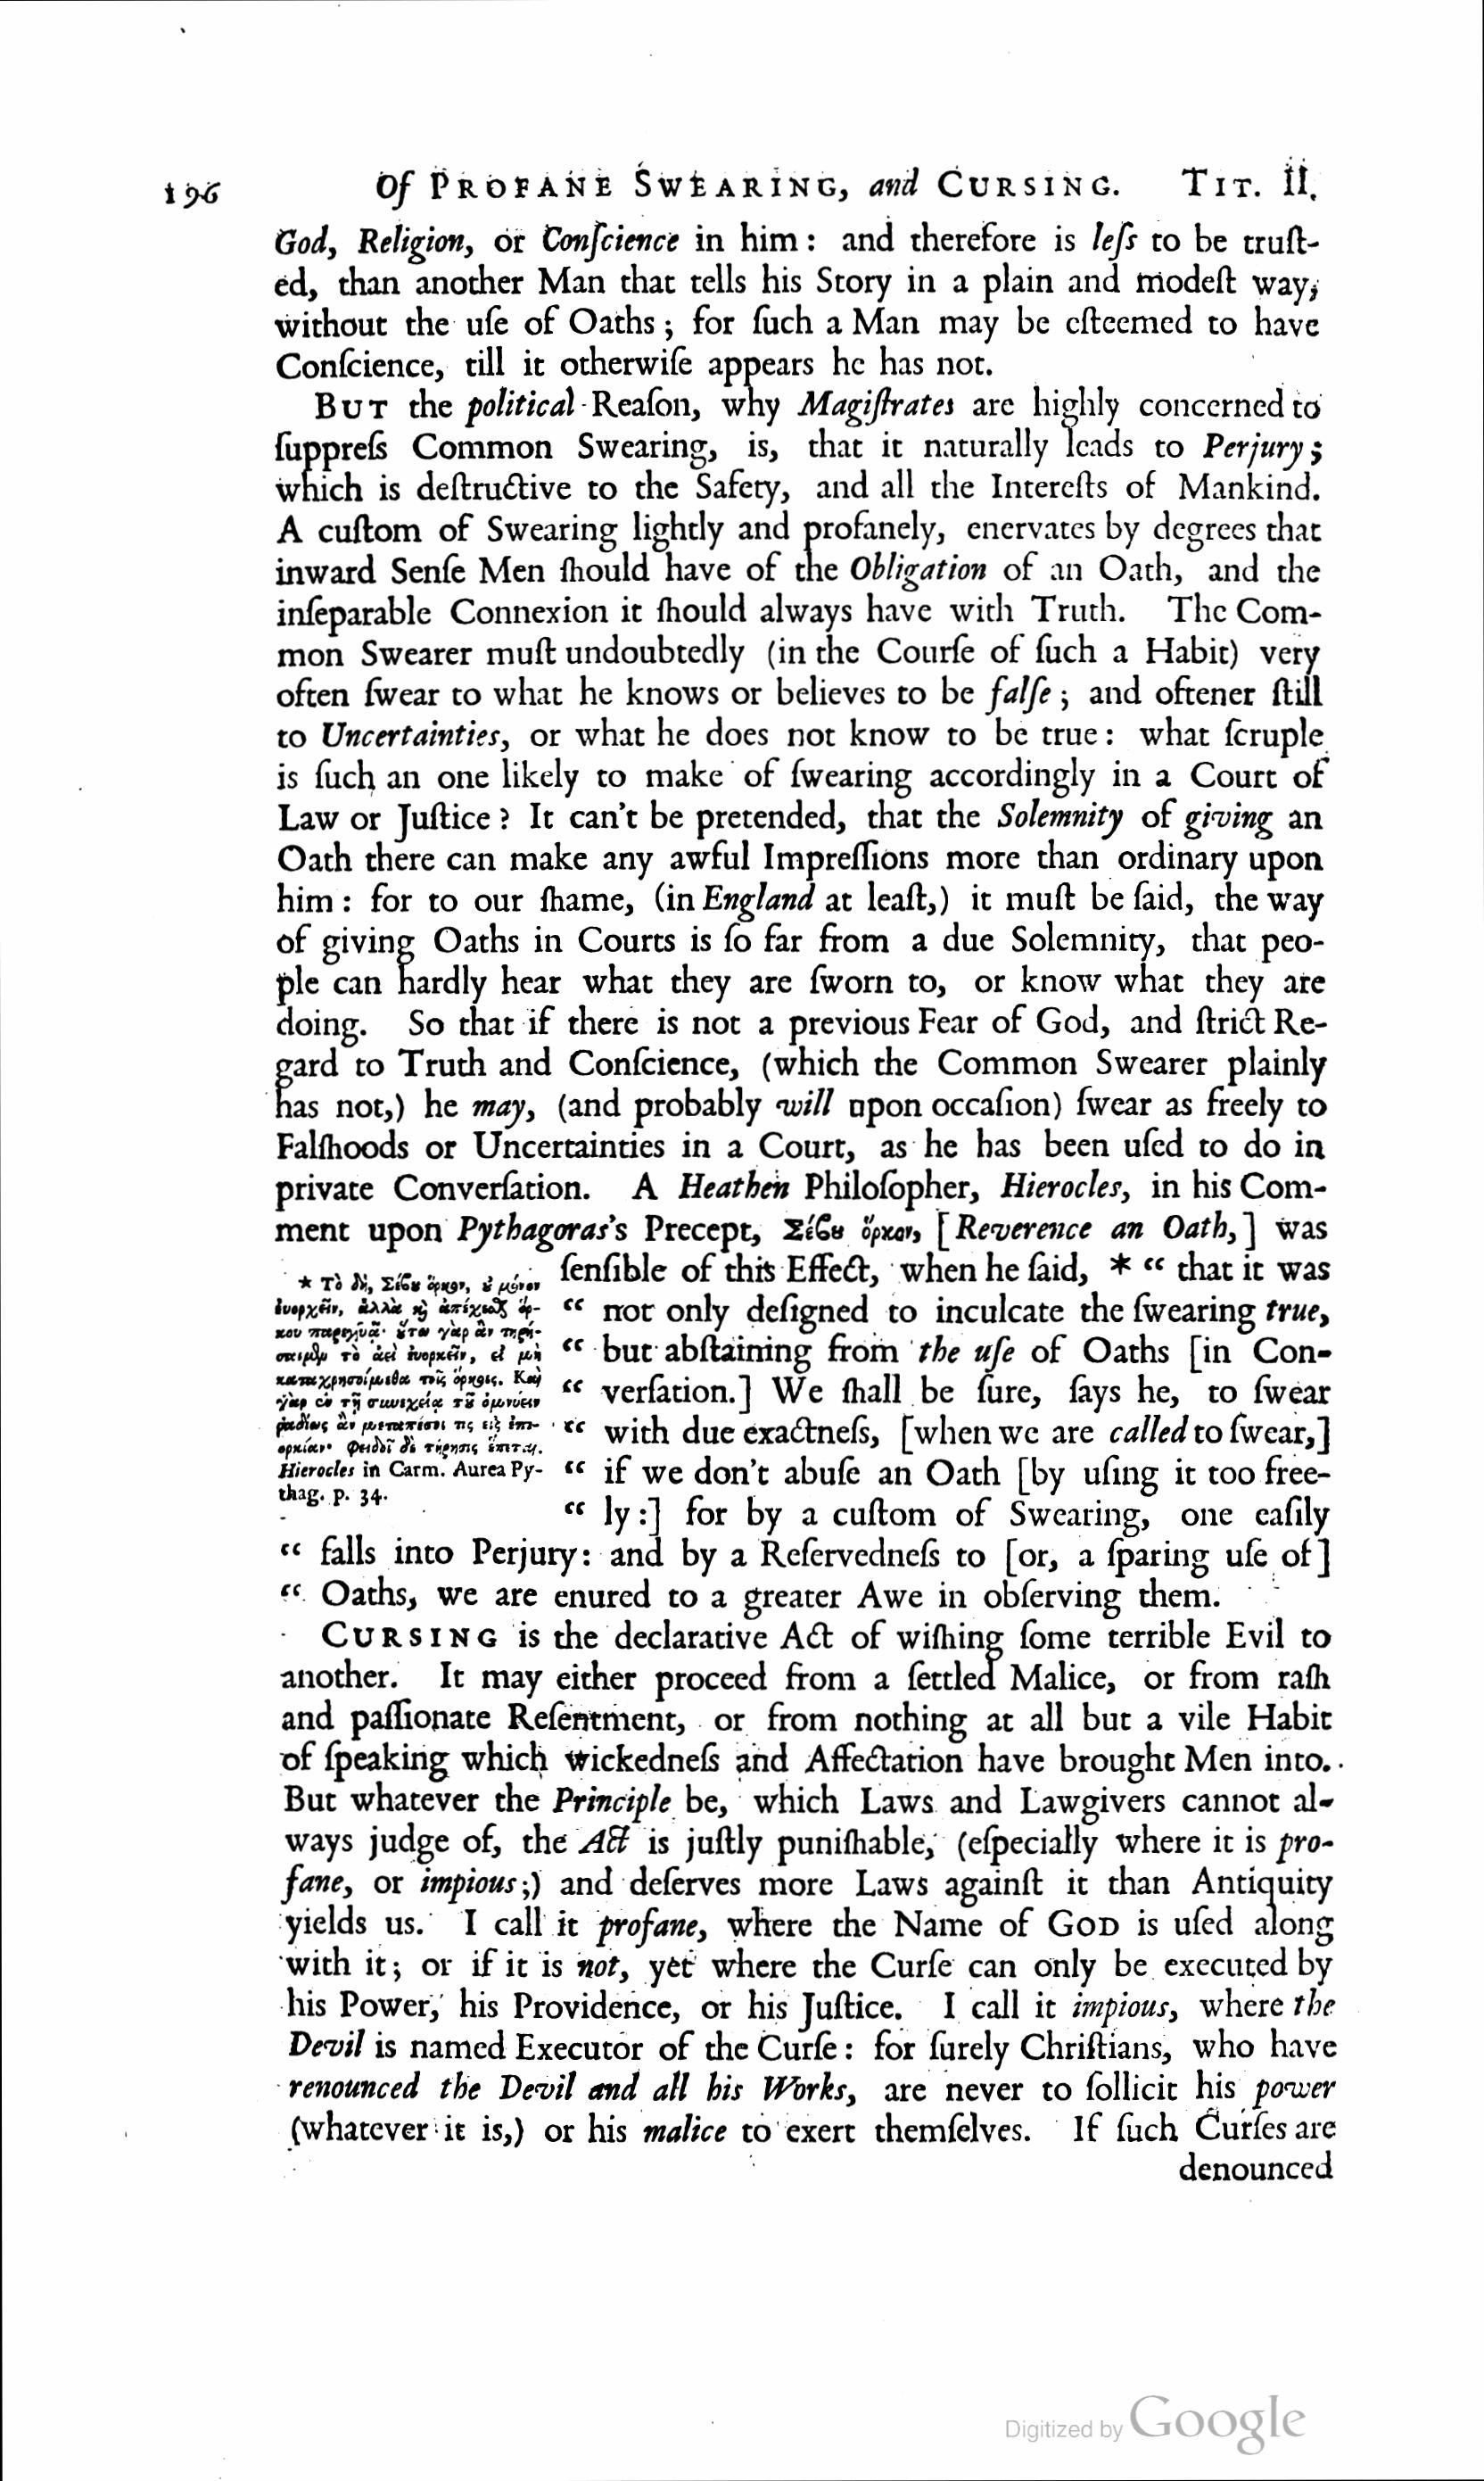bottom_p: (267, 216, 1323, 385), (270, 1534, 1337, 1617)
catchword: (1175, 2149, 1339, 2184)
header: (367, 157, 1321, 214)
page_num: (161, 173, 224, 214)
print_marg: (267, 1265, 551, 1514)
top_p: (269, 383, 1343, 1253), (274, 1619, 1343, 2149), (556, 1249, 1336, 1539)
